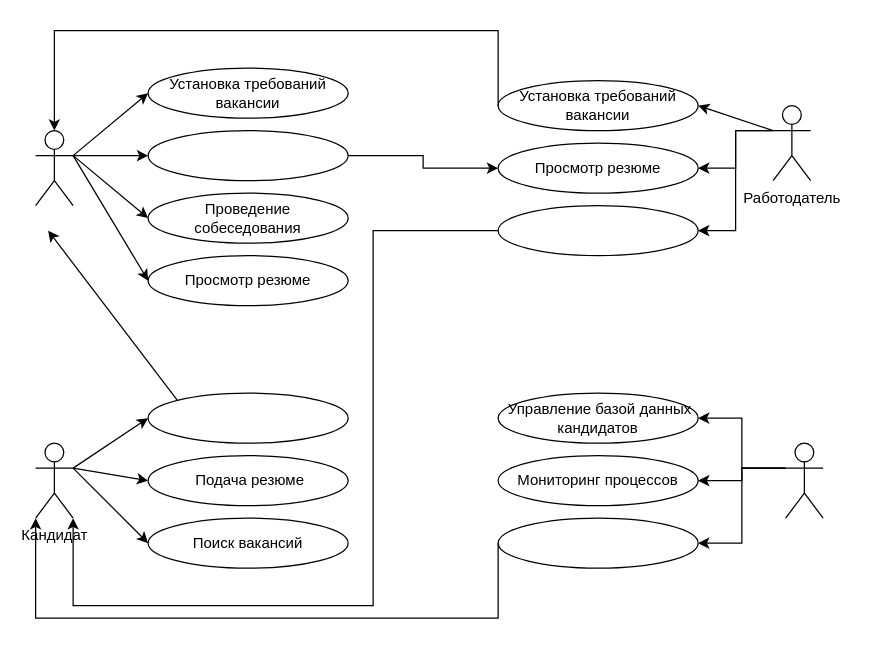
This 880x650 diagram has some shape labels left out. The centre of each missing label's shape, as x and y in pixels:
"Администратор" belongs at pixel 803 480.
"Обратная связь по кандидатам" belongs at pixel 597 230.
"Обратная связь с рекрутерами" belongs at pixel 247 417.
"Поддержка пользователей" belongs at pixel 597 542.
"Получение откликов на вакансии" belongs at pixel 247 155.
"Рекрутер" belongs at pixel 53 167.
